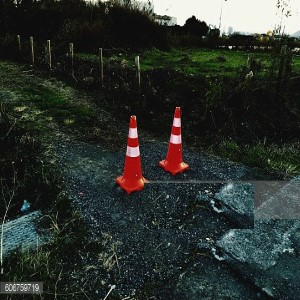traffic cone: (116, 115, 149, 194), (158, 106, 189, 175)
